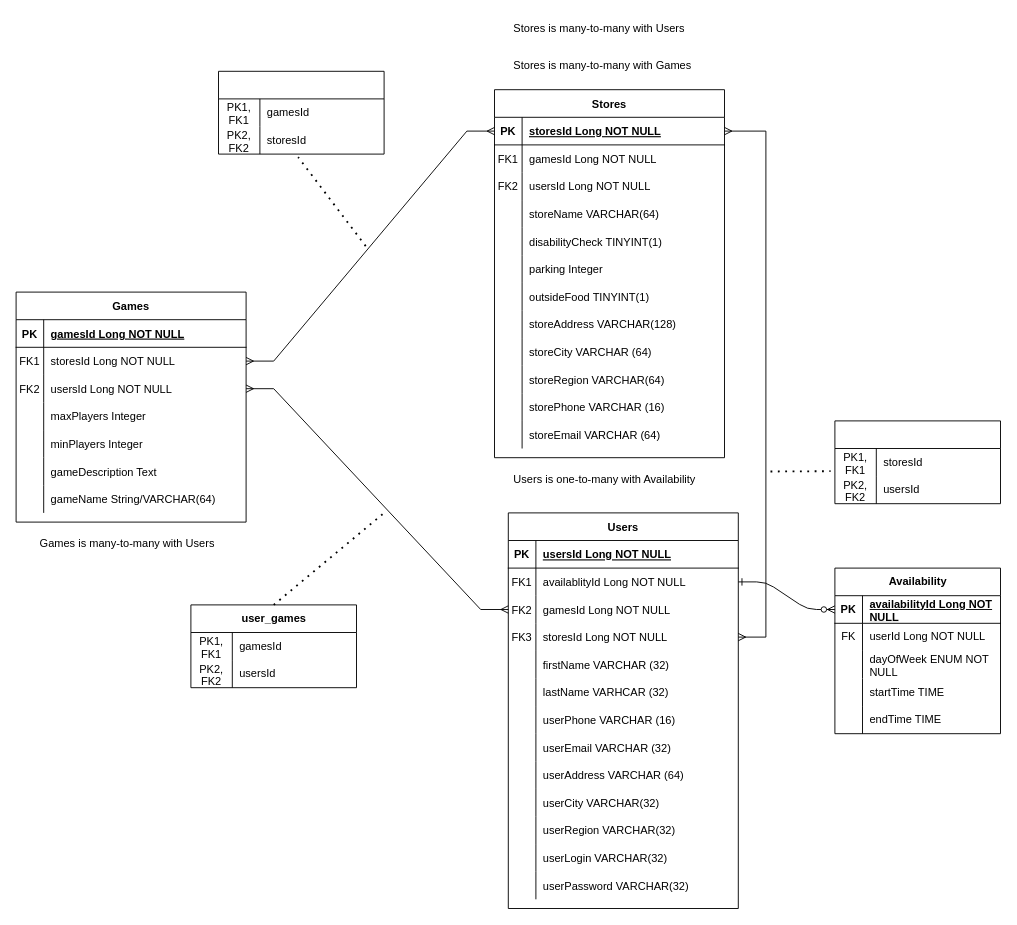
Some shapes in this 1017 by 925 pixel diagram are drawn without their labels. Here are the shapes that lost their labels. From the top down, the box of each, then its label:
(218, 70, 384, 154): store_games
(834, 420, 1000, 504): store_users
